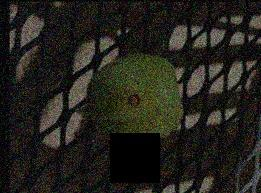rotten apple: (86, 54, 182, 146)
